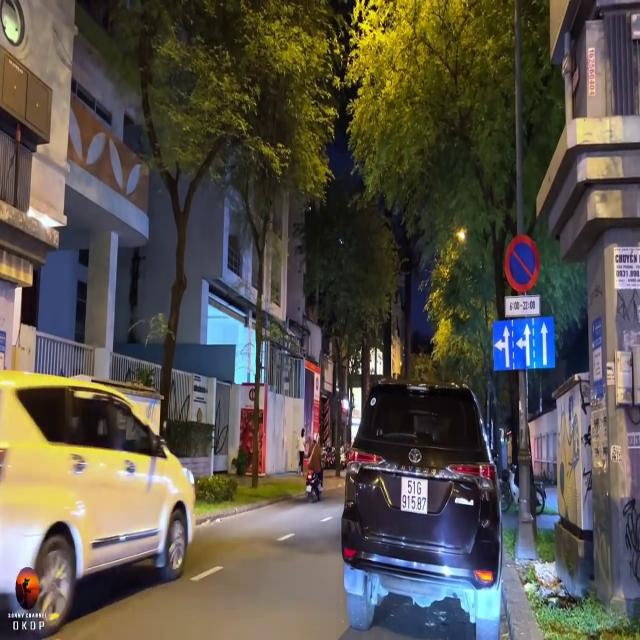bien_trang: (400, 472, 429, 514)
